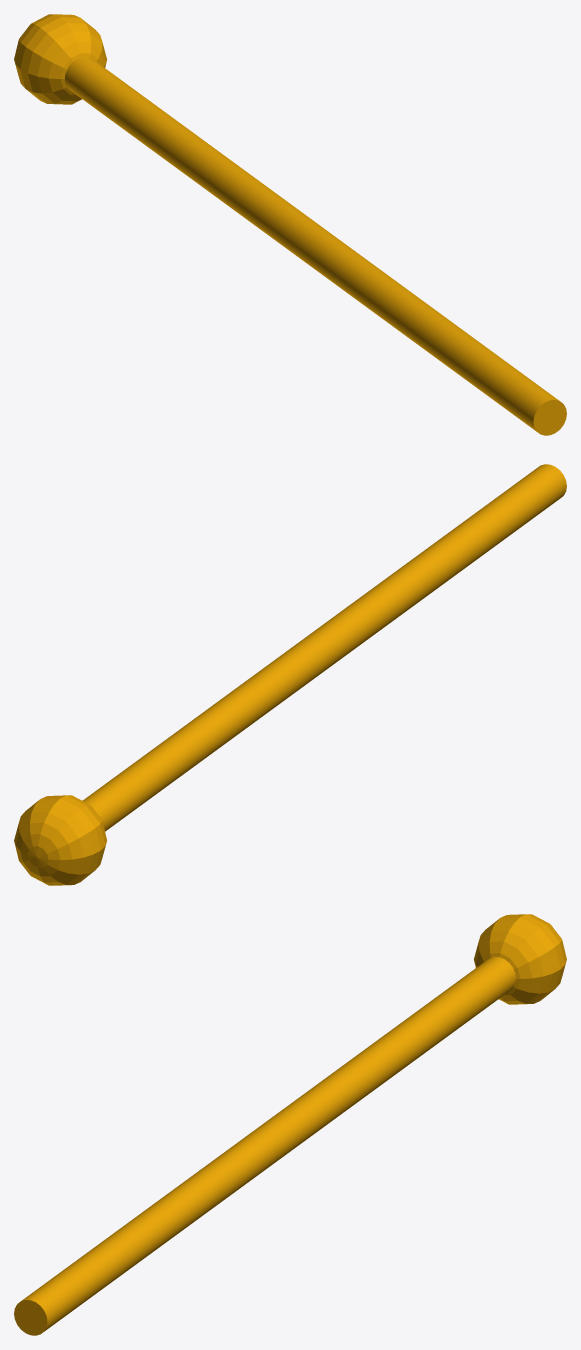
File: FlagPole.fbx
3 renders of one model, top to bottom at view 1: azimuth 30°, elevation 25°; view 2: azimuth 150°, elevation 25°; view 3: azimuth 330°, elevation 25°, orthographic.
Parts seen in each view (by area): view 1: pSphere5; view 2: pSphere5; view 3: pSphere5.
Part boxes in pixels (x1,y1,x2,y2): pSphere5: (14, 14, 566, 435); pSphere5: (14, 464, 566, 885); pSphere5: (14, 914, 566, 1335).
Size of the model in its own units: 1.52 by 1.52 by 16.76.
